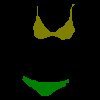mutande: (22, 75, 69, 96)
reggiseno: (33, 4, 75, 40)
